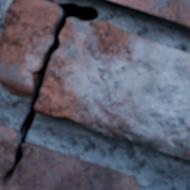brick: (110, 0, 189, 29)
broken_brick: (36, 20, 189, 161), (0, 141, 141, 189), (0, 0, 60, 97), (0, 122, 18, 181)
crack: (0, 2, 98, 187)
